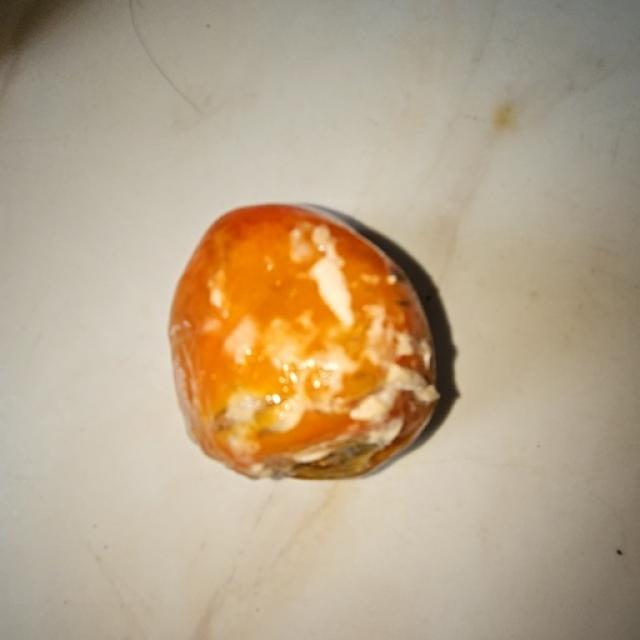Red: (166, 201, 440, 481)
